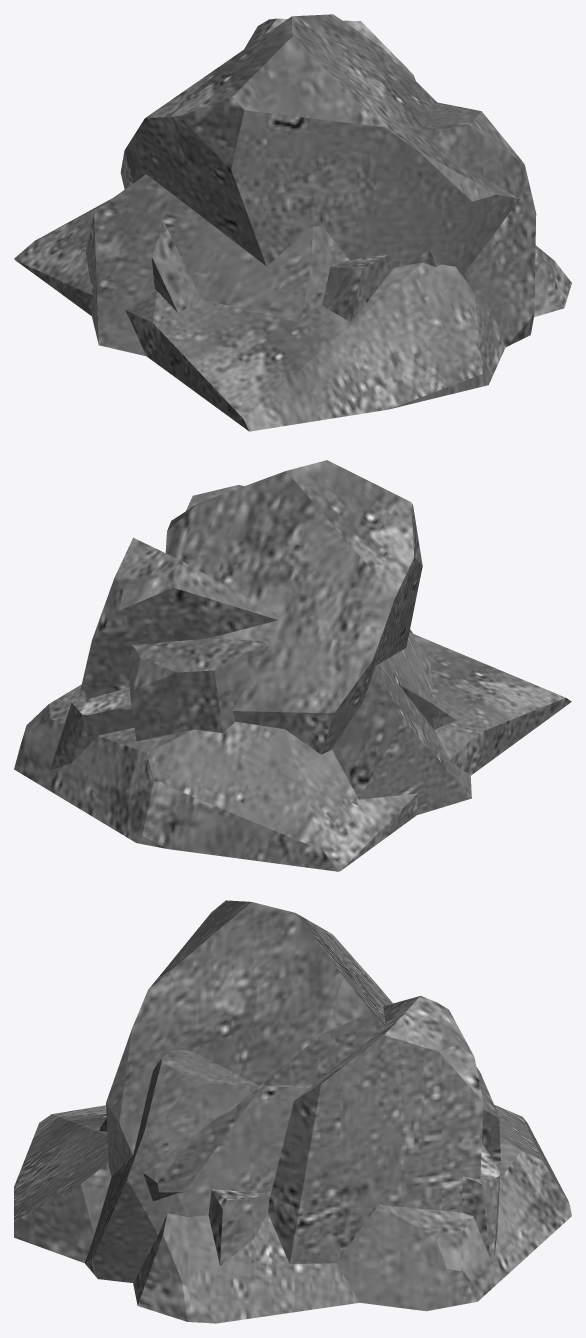
The model's file is RockPart_01.fbx.
3 views of the same model, one above another, from view 1: azimuth 30°, elevation 25°; view 2: azimuth 150°, elevation 25°; view 3: azimuth 270°, elevation 25° (orthographic). The views are drawn at different scales.
Parts seen in each view (by area): view 1: Box001_frag_076, Box001_frag_015, Box001_frag_022, Box001_frag_137, Box001_frag_023, Box001_frag_182; view 2: Box001_frag_015, Box001_frag_076, Box001_frag_023, Box001_frag_022, Box001_frag_137, Box001_frag_169; view 3: Box001_frag_076, Box001_frag_023, Box001_frag_015, Box001_frag_137, Box001_frag_022, Box001_frag_182, Box001_frag_169.
Boxes of the visible parts, bbox=[...] form: Box001_frag_076: bbox=[120, 14, 519, 275]; Box001_frag_015: bbox=[14, 198, 505, 431]; Box001_frag_022: bbox=[86, 174, 571, 356]; Box001_frag_137: bbox=[409, 102, 536, 347]; Box001_frag_023: bbox=[151, 18, 415, 312]; Box001_frag_182: bbox=[80, 248, 393, 321]; Box001_frag_015: bbox=[14, 634, 571, 871]; Box001_frag_076: bbox=[165, 460, 422, 754]; Box001_frag_023: bbox=[78, 537, 456, 729]; Box001_frag_022: bbox=[332, 633, 471, 814]; Box001_frag_137: bbox=[128, 485, 268, 741]; Box001_frag_169: bbox=[51, 687, 134, 769]; Box001_frag_076: bbox=[106, 900, 392, 1201]; Box001_frag_023: bbox=[268, 996, 483, 1263]; Box001_frag_015: bbox=[14, 1105, 571, 1311]; Box001_frag_137: bbox=[85, 1046, 500, 1282]; Box001_frag_022: bbox=[133, 1213, 359, 1323]; Box001_frag_182: bbox=[99, 1118, 268, 1265]; Box001_frag_169: bbox=[461, 1143, 500, 1261].
Bounding box in the file's own units: 15.26 × 9.86 × 16.89.
Materials: 1 (1 with a texture image).
